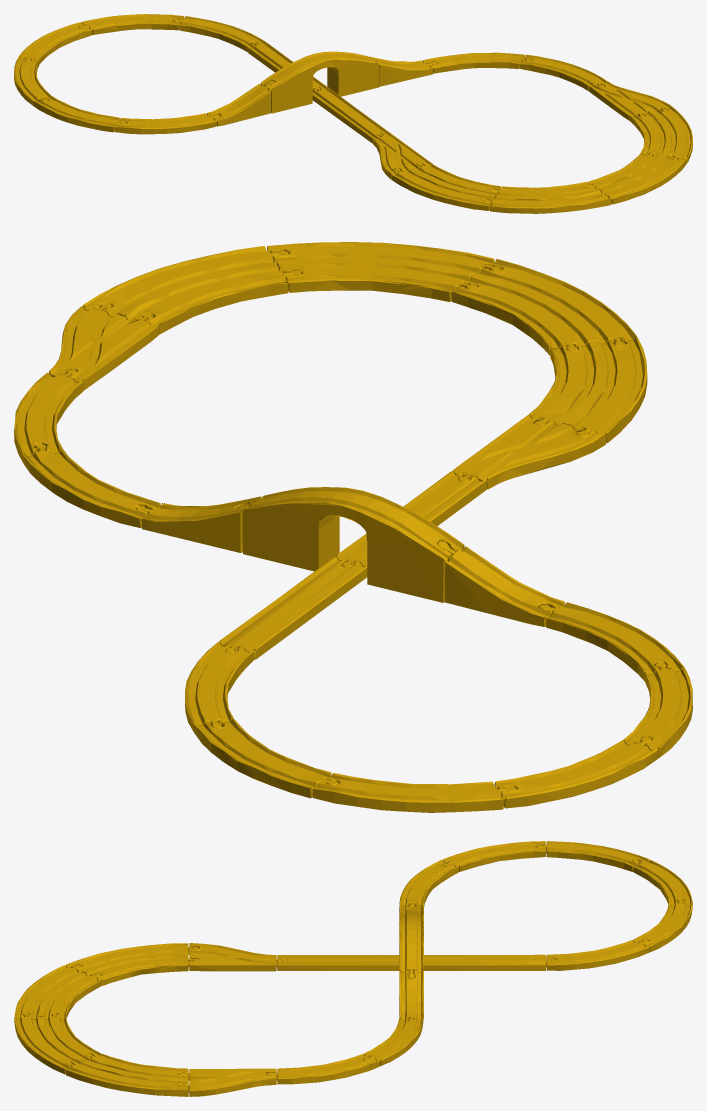
The model's file is pista_LOD01.fbx.
3 views of the same model, one above another, from view 1: azimuth 30°, elevation 25°; view 2: azimuth 150°, elevation 25°; view 3: azimuth 270°, elevation 25° (orthographic). The views are drawn at different scales.
Parts seen in each view (by area): view 1: pistaa; view 2: pistaa; view 3: pistaa.
Part boxes in pixels (<box>): pistaa: <box>14,14,692,213</box>; pistaa: <box>14,242,692,812</box>; pistaa: <box>14,841,692,1096</box>.
Size of the model in its own units: 286 by 22.57 by 329.
